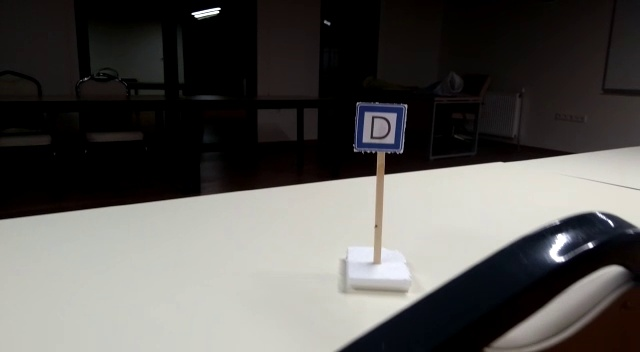durak: (354, 104, 406, 151)
